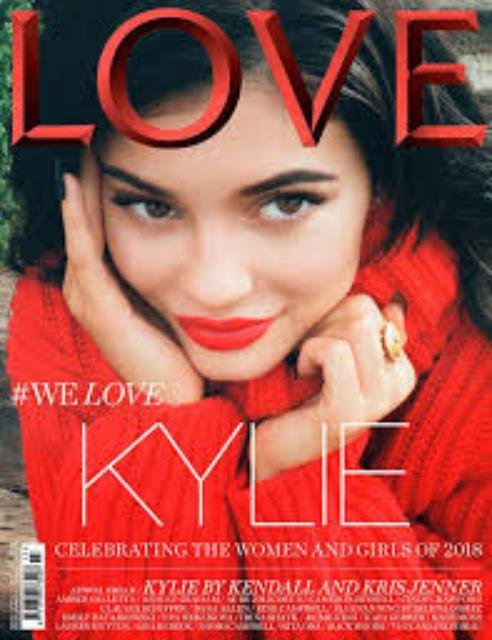cardboard paper: (5, 0, 485, 635), (5, 238, 485, 635), (395, 12, 422, 82), (395, 82, 415, 138)
